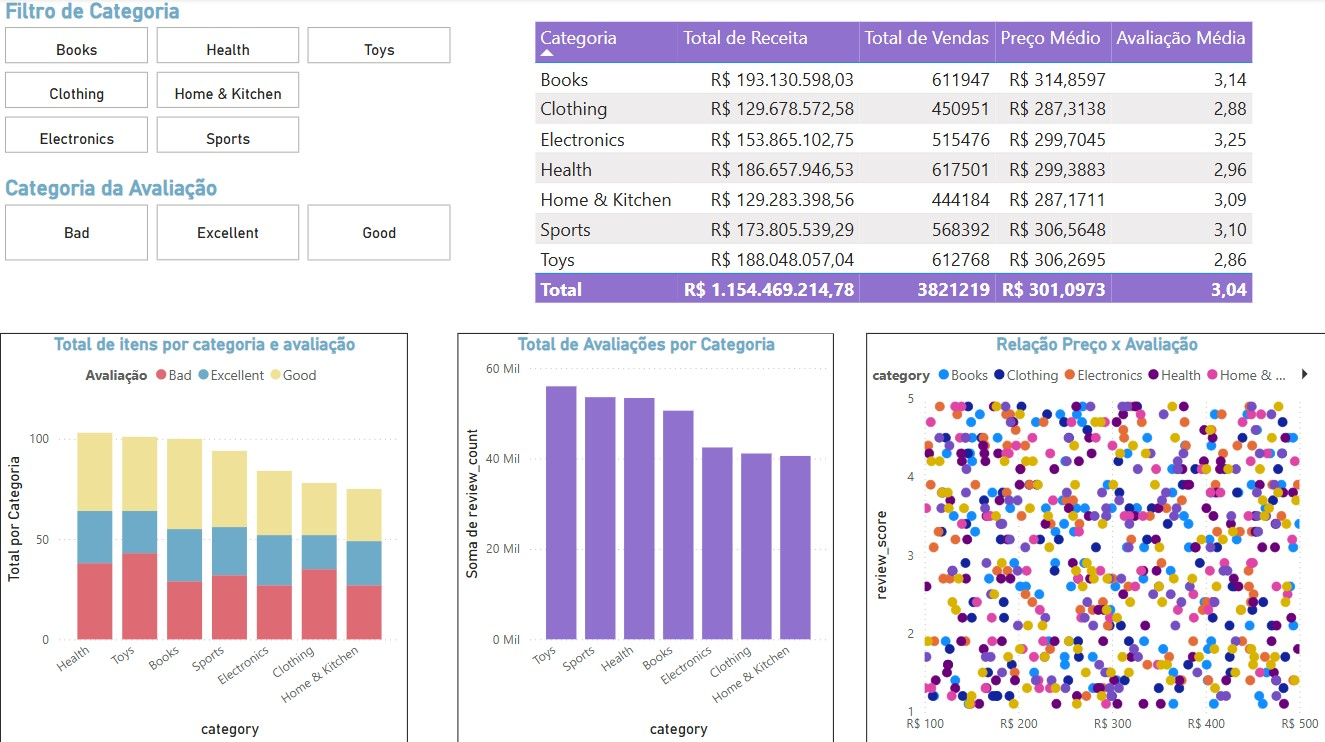

The page's visual inventory and layout, read from the dashboard file:
{"tool":"powerbi","page":{"name":"Página 2","canvas":[1280,720],"ordinal":1},"visuals":[{"type":"columnChart","title":"Total de Avaliações por Categoria","fields":{"Category":["tabela_dimensao.category"],"Y":["Sum(tabela_dimensao.review_count)"]},"box":[441.6,323.3,363.1,396.9],"z":3000},{"type":"advancedSlicerVisual","fields":{"Values":["tabela_dimensao.category"]},"box":[0,0,441.6,154.4],"z":3001},{"type":"advancedSlicerVisual","title":"Categoria da Avaliação","fields":{"Values":["tabela_dimensao.review_category"]},"box":[0,171.3,441.6,88.1],"z":3002},{"type":"tableEx","fields":{"Values":["tabela_dimensao.category","Sum(tabela_fato.monthly_revenue)","Sum(tabela_fato.monthly_sales)","tabela_dimensao.price","tabela_dimensao.review_score"]},"box":[510.3,18.1,709.4,305.2],"z":3003},{"type":"columnChart","title":"Total de itens por categoria e avaliação","fields":{"Category":["tabela_dimensao.category"],"Y":["CountNonNull(tabela_dimensao.category)"],"Series":["tabela_dimensao.review_category"]},"box":[0,323.3,393.3,396.9],"z":3005},{"type":"scatterChart","title":"Relação Preço x Avaliação","fields":{"X":["tabela_dimensao.price"],"Y":["tabela_dimensao.review_score"],"Series":["tabela_dimensao.category"]},"box":[836.1,323.3,444,396.9],"z":3006}]}

Visuals, with their boxes in screenshot pixels (x1, y1, x2, y2), scaled from the page's 1280x720 canvas onto the 1325x742 screenshot:
"Total de Avaliações por Categoria" columnChart: l=457, t=333, r=833, b=741
advancedSlicerVisual - tabela_dimensao.category: l=0, t=0, r=457, b=159
"Categoria da Avaliação" advancedSlicerVisual: l=0, t=177, r=457, b=267
tableEx - tabela_dimensao.category x Sum(tabela_fato.monthly_revenue): l=528, t=19, r=1263, b=333
"Total de itens por categoria e avaliação" columnChart: l=0, t=333, r=407, b=741
"Relação Preço x Avaliação" scatterChart: l=865, t=333, r=1324, b=741
